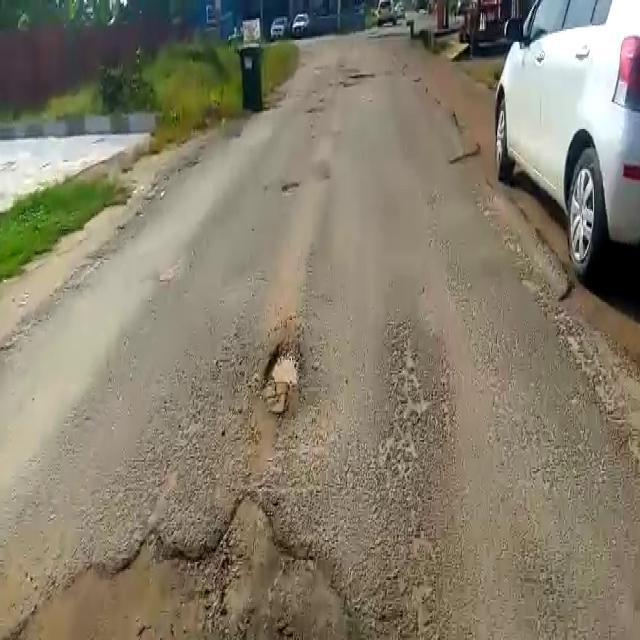pothole: (1, 493, 361, 640), (260, 335, 302, 413)
